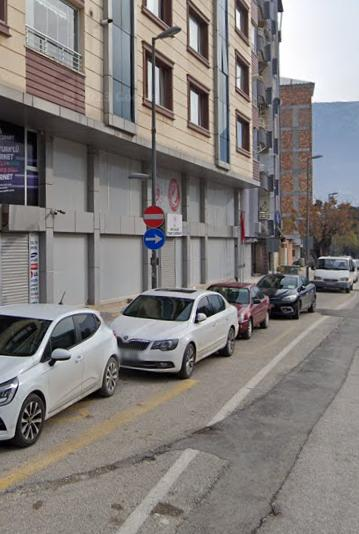turnright: (143, 229, 166, 250)
